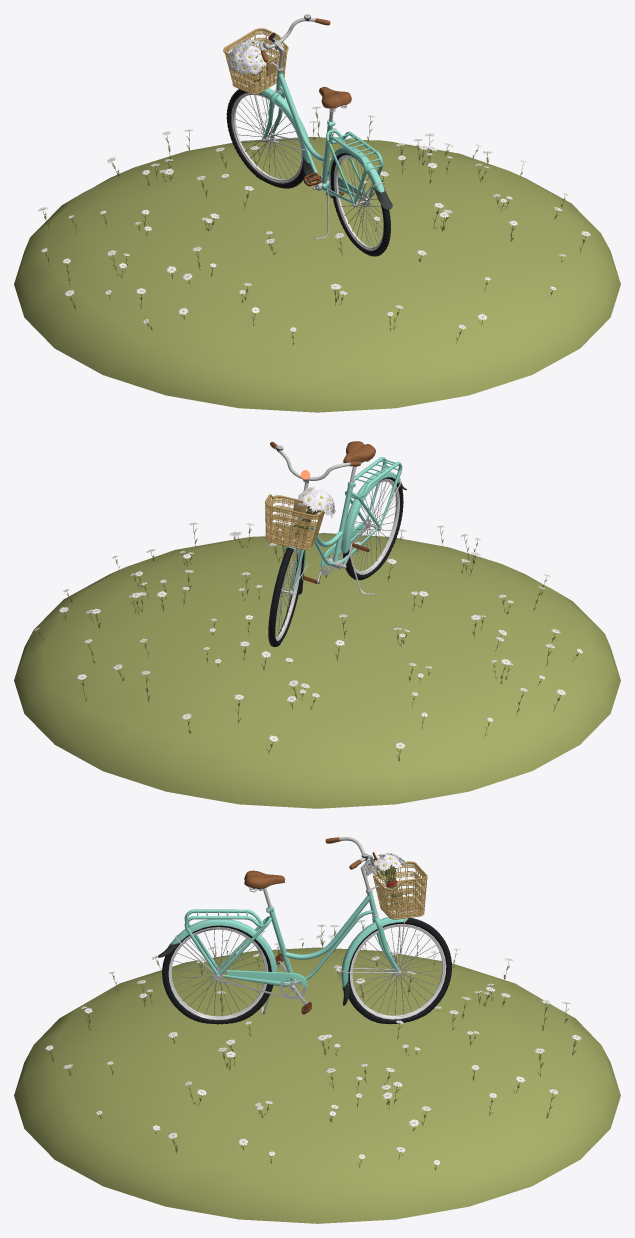
Rendered from retro_bike.glb.
The picture shows the model from 3 angles, top to bottom: view 1: azimuth 30°, elevation 25°; view 2: azimuth 150°, elevation 25°; view 3: azimuth 270°, elevation 25°; orthographic projection.
Parts seen in each view (by area): view 1: pCube98_phong1_0; view 2: pCube98_phong1_0; view 3: pCube98_phong1_0.
Boxes of the visible parts, left/top/right/bottom form: pCube98_phong1_0: left=14, top=14, right=620, bottom=412; pCube98_phong1_0: left=14, top=441, right=620, bottom=808; pCube98_phong1_0: left=14, top=837, right=620, bottom=1223.
Bounding box in the file's own units: 87.37 × 39.42 × 87.37.
2 materials, 2 textured.
